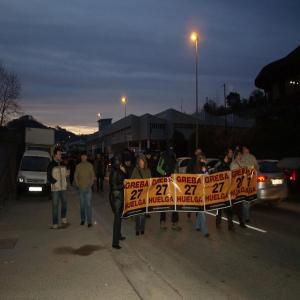Vehicle-registration-plate: (30, 188, 42, 192), (273, 181, 283, 185)
